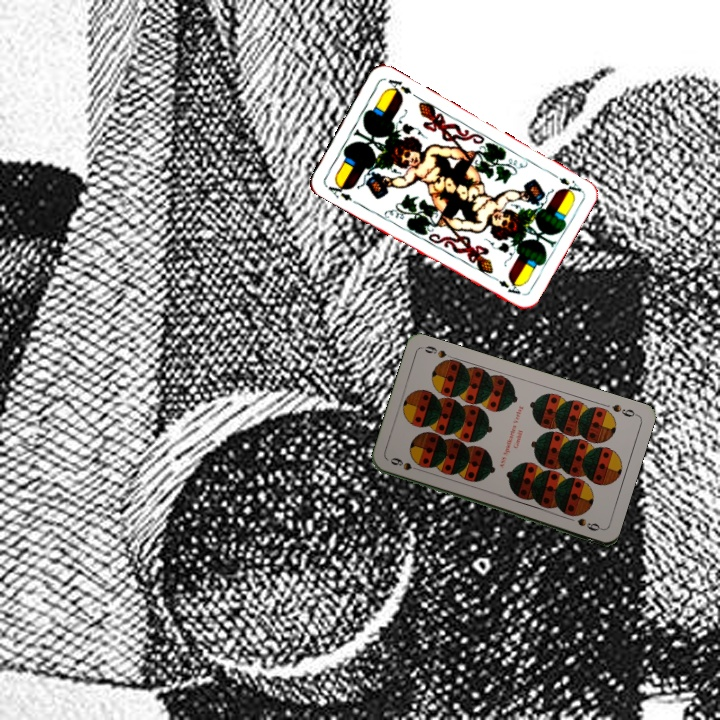EA: (546, 168, 584, 198), (322, 178, 355, 203)
S9: (386, 454, 425, 474), (608, 400, 640, 420)
